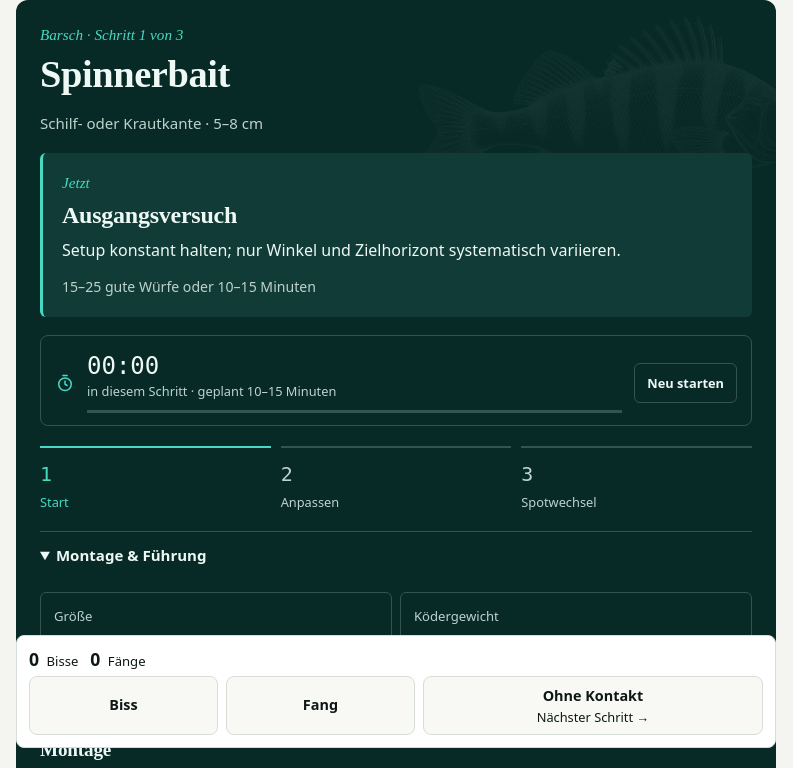
Test: UX-Paket › zeigt die gespeicherte Empfehlung und schreibt Feedback in der Am-Wasser-Karte
This screenshot has width=793, height=768.
Expected: the heading "Spinnerbait" is shown, [40,53,230,95]
Expected: the element named "Rückmeldung erfassen" is shown, [29,676,763,735]
What coordinates should you click on to do the following:
click the button with aria-label "Ohne Kontakt → nächster Schritt"
I would click on:
 (593, 705)
Its box is [423,676,763,735].
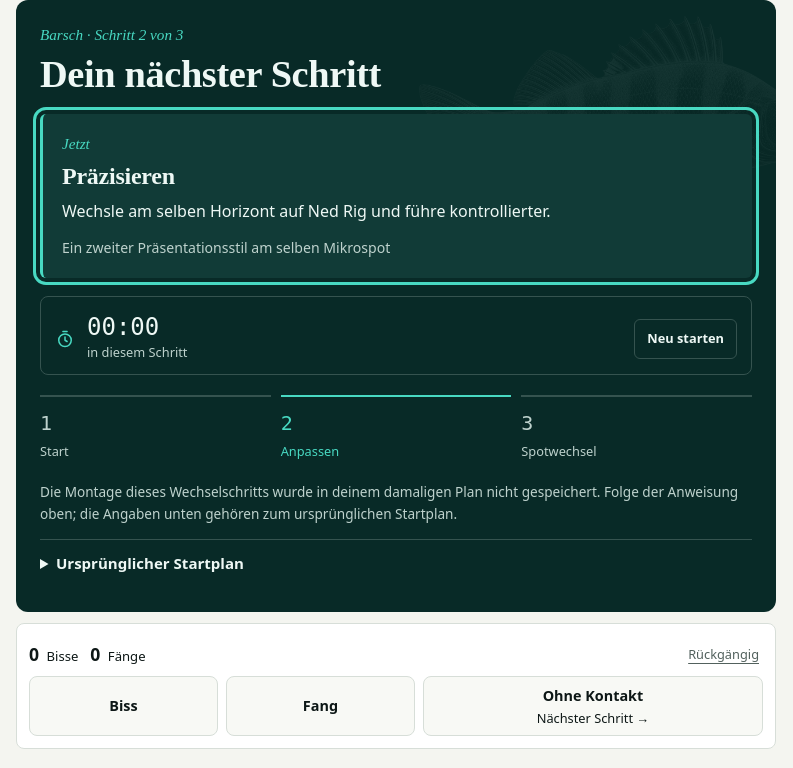
Now the heading "Präzisieren" is shown, box [62,163,175,189]
